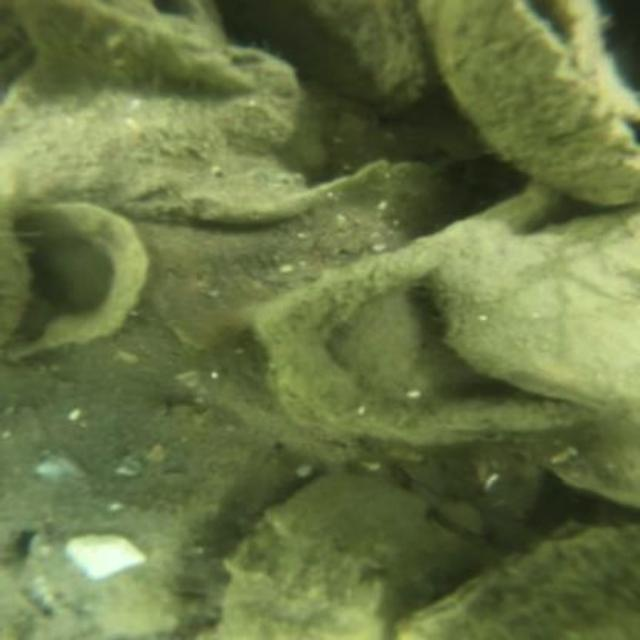Oyster-Closed: (251, 176, 631, 442), (3, 50, 302, 220), (428, 206, 638, 412), (211, 475, 473, 638), (2, 490, 198, 638), (394, 533, 637, 638), (9, 0, 252, 88), (248, 1, 428, 110)
Oyster-Open: (418, 0, 638, 204)
